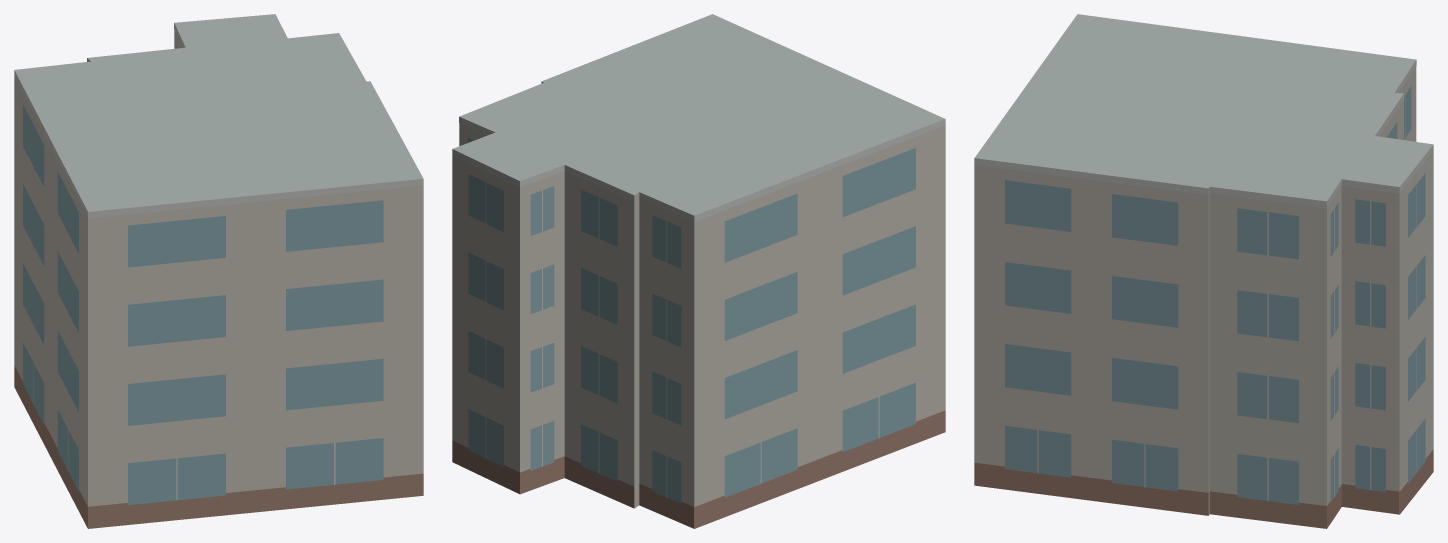
The model's file is survey-upis-32822522.glb.
The picture shows the model from 3 angles, left to right: view 1: azimuth 30°, elevation 25°; view 2: azimuth 150°, elevation 25°; view 3: azimuth 270°, elevation 25°; orthographic projection. The views are drawn at different scales.
Visible parts, largest first — view 1: survey-upis-32822522.tmp; view 2: survey-upis-32822522.tmp; view 3: survey-upis-32822522.tmp.
Part boxes in pixels (x1,y1,x2,y2): survey-upis-32822522.tmp: [14, 14, 423, 528]; survey-upis-32822522.tmp: [452, 14, 945, 528]; survey-upis-32822522.tmp: [974, 14, 1433, 528].
Bounding box in the file's own units: 14.62 × 11.9 × 15.13.
